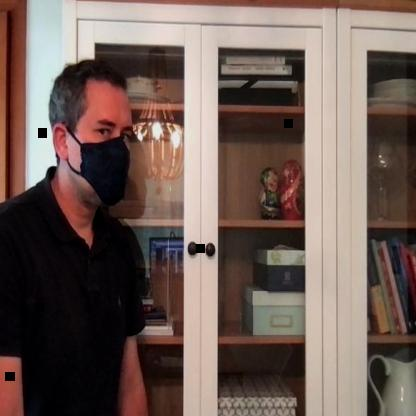mask: (48, 59, 131, 212)
